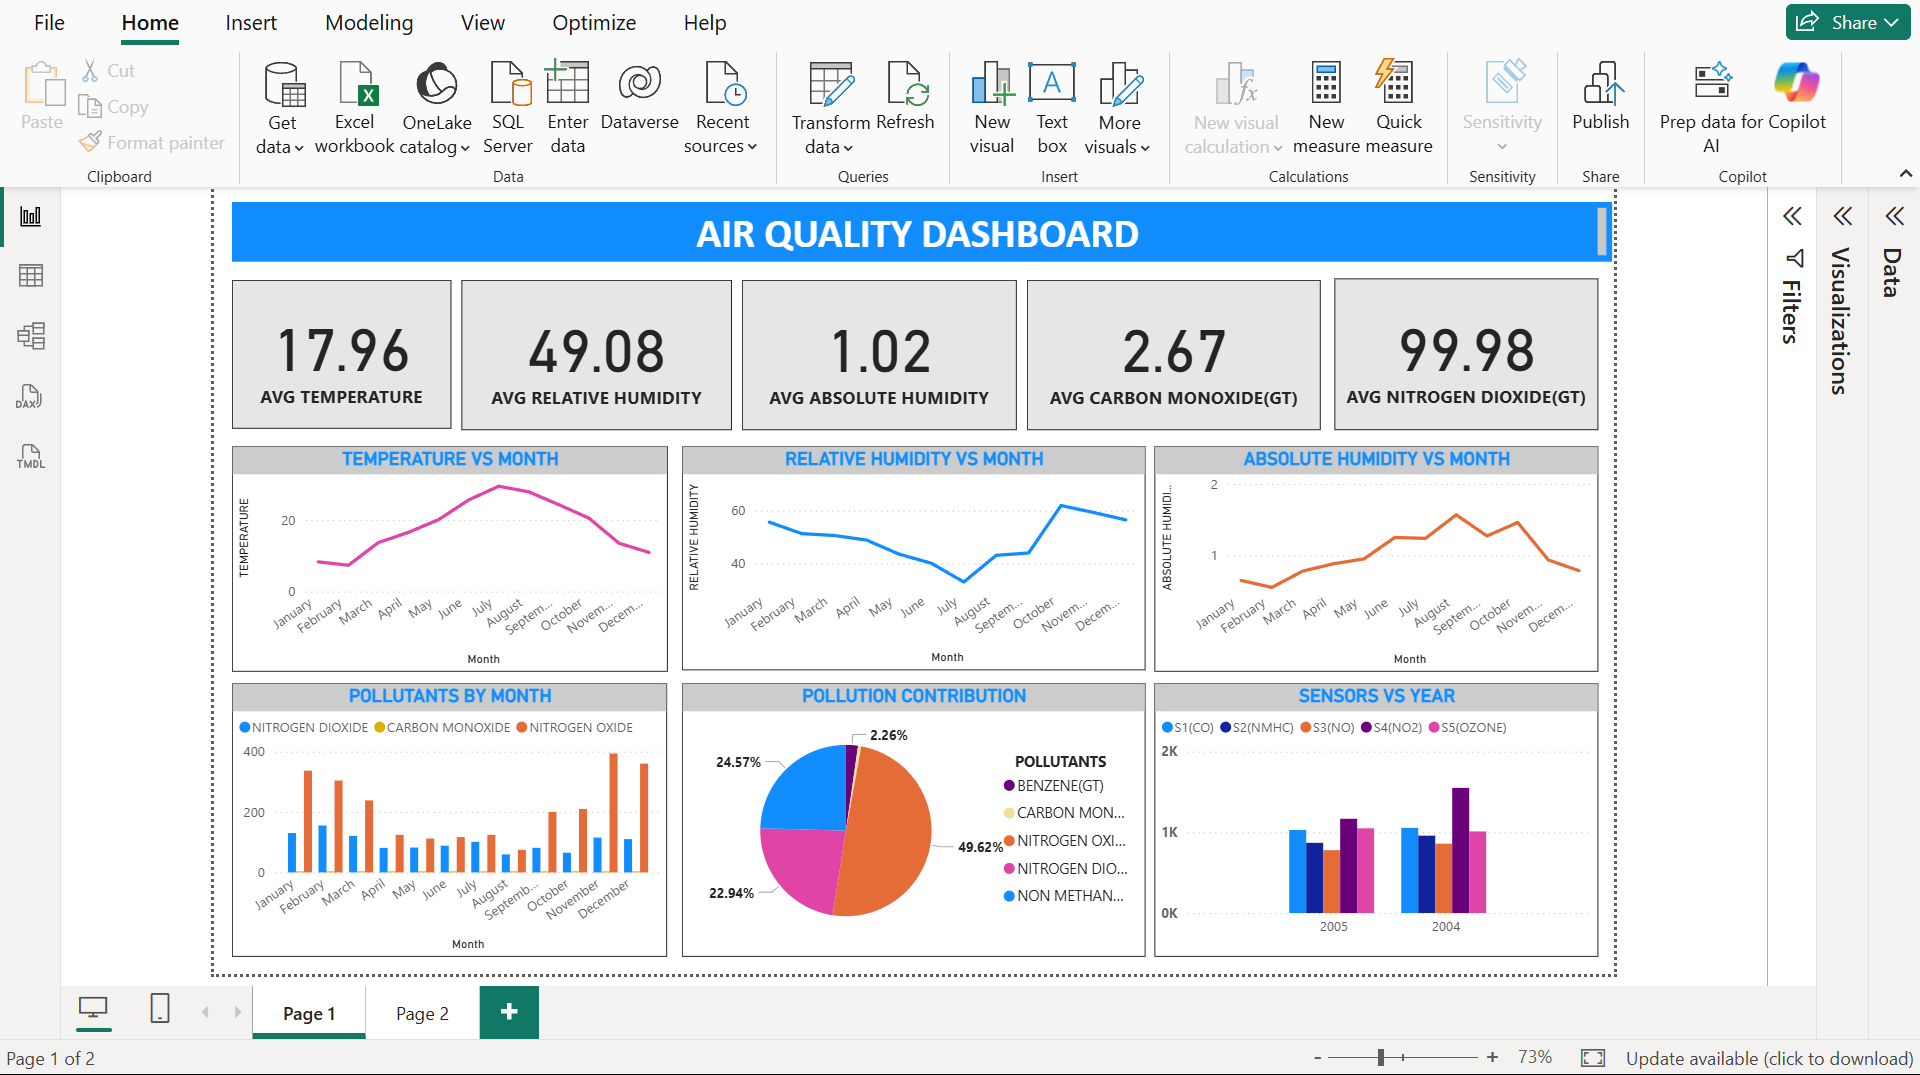

The dashboard page shown, as its layout file describes it:
{"tool":"powerbi","page":{"name":"Page 1","canvas":[1280,720],"ordinal":0},"visuals":[{"type":"textbox","box":[16.9,13.2,1262.5,54.5],"z":0},{"type":"card","fields":{"Values":["Avg(AirQualityUCI.TEMPERATURE)"]},"box":[16.5,85.1,200.4,135.9],"z":1000},{"type":"card","fields":{"Values":["Avg(AirQualityUCI.RELATIVE HUMIDITY)"]},"box":[226.4,85.1,247,137.2],"z":2000},{"type":"card","fields":{"Values":["Avg(AirQualityUCI.CARBON MONOXIDE(GT))"]},"box":[743.8,85.1,269,137.2],"z":3000},{"type":"card","fields":{"Values":["Avg(AirQualityUCI.NITROGEN DIOXIDE(GT))"]},"box":[1025.7,84.3,241.4,138.6],"z":4000},{"type":"card","fields":{"Values":["Avg(AirQualityUCI.ABSOLUTE HUMIDITY)"]},"box":[483.1,85.1,251.1,137.2],"z":5000},{"type":"lineChart","title":"TEMPERATURE VS MONTH","fields":{"Category":["AirQualityUCI.DATE AND TIME.Variation.Date Hierarchy.Year","AirQualityUCI.DATE AND TIME.Variation.Date Hierarchy.Quarter","AirQualityUCI.DATE AND TIME.Variation.Date Hierarchy.Month","AirQualityUCI.DATE AND TIME.Variation.Date Hierarchy.Day"],"Y":["Avg(AirQualityUCI.TEMPERATURE)"]},"box":[17.1,237.1,398.6,205.7],"z":6000},{"type":"lineChart","title":"RELATIVE HUMIDITY VS MONTH","fields":{"Category":["AirQualityUCI.DATE AND TIME.Variation.Date Hierarchy.Year","AirQualityUCI.DATE AND TIME.Variation.Date Hierarchy.Quarter","AirQualityUCI.DATE AND TIME.Variation.Date Hierarchy.Month","AirQualityUCI.DATE AND TIME.Variation.Date Hierarchy.Day"],"Y":["Avg(AirQualityUCI.RELATIVE HUMIDITY)"]},"box":[428.5,237.7,424,204.4],"z":7000},{"type":"lineChart","title":"ABSOLUTE HUMIDITY VS MONTH","fields":{"Category":["AirQualityUCI.DATE AND TIME.Variation.Date Hierarchy.Year","AirQualityUCI.DATE AND TIME.Variation.Date Hierarchy.Quarter","AirQualityUCI.DATE AND TIME.Variation.Date Hierarchy.Month","AirQualityUCI.DATE AND TIME.Variation.Date Hierarchy.Day"],"Y":["Avg(AirQualityUCI.ABSOLUTE HUMIDITY)"]},"box":[860,237.1,405.7,205.7],"z":8000},{"type":"clusteredColumnChart","title":"POLLUTANTS BY MONTH","fields":{"Category":["AirQualityUCI.DATE AND TIME.Variation.Date Hierarchy.Year","AirQualityUCI.DATE AND TIME.Variation.Date Hierarchy.Quarter","AirQualityUCI.DATE AND TIME.Variation.Date Hierarchy.Month","AirQualityUCI.DATE AND TIME.Variation.Date Hierarchy.Day"],"Y":["Avg(AirQualityUCI.NITROGEN DIOXIDE(GT))","Avg(AirQualityUCI.CARBON MONOXIDE(GT))","Avg(AirQualityUCI.NITROGEN OXIDE(GT))"]},"box":[16.7,454.3,398.2,249.8],"z":9000},{"type":"pieChart","title":"POLLUTION CONTRIBUTION","fields":{"Y":["Avg(AirQualityUCI.BENZENE(GT))","Avg(AirQualityUCI.CARBON MONOXIDE(GT))","Avg(AirQualityUCI.NITROGEN OXIDE(GT))","Avg(AirQualityUCI.NITROGEN DIOXIDE(GT))","Avg(AirQualityUCI.NON METHANE HYDROCARBONS(GT))"]},"box":[428.5,454.3,424,249.8],"z":10000},{"type":"clusteredColumnChart","title":"SENSORS VS YEAR","fields":{"Category":["AirQualityUCI.DATE AND TIME.Variation.Date Hierarchy.Year","AirQualityUCI.DATE AND TIME.Variation.Date Hierarchy.Quarter","AirQualityUCI.DATE AND TIME.Variation.Date Hierarchy.Month","AirQualityUCI.DATE AND TIME.Variation.Date Hierarchy.Day"],"Y":["Avg(AirQualityUCI.PT08.S1(CARBON MONOXIDE))","Avg(AirQualityUCI.PT08.S2(NON METHANE HYDROCARBONS))","Avg(AirQualityUCI.PT08.S3(NITROGEN OXIDE))","Avg(AirQualityUCI.PT08.S4(NITROGEN DIOXIDE))","Avg(AirQualityUCI.PT08.S5(OZONE))"]},"box":[860,454,406,250],"z":11000}]}

Visuals, with their boxes on the page's 1280x720 design canvas (x1, y1, x2, y2). These are canvas units, not pixel positions in the 1920x1075 screenshot, which may show the page scaled, cropped or inside an application window:
textbox: bbox=(17, 13, 1279, 68)
card - Avg(AirQualityUCI.TEMPERATURE): bbox=(16, 85, 217, 221)
card - Avg(AirQualityUCI.RELATIVE HUMIDITY): bbox=(226, 85, 473, 222)
card - Avg(AirQualityUCI.CARBON MONOXIDE(GT)): bbox=(744, 85, 1013, 222)
card - Avg(AirQualityUCI.NITROGEN DIOXIDE(GT)): bbox=(1026, 84, 1267, 223)
card - Avg(AirQualityUCI.ABSOLUTE HUMIDITY): bbox=(483, 85, 734, 222)
"TEMPERATURE VS MONTH" lineChart: bbox=(17, 237, 416, 443)
"RELATIVE HUMIDITY VS MONTH" lineChart: bbox=(428, 238, 852, 442)
"ABSOLUTE HUMIDITY VS MONTH" lineChart: bbox=(860, 237, 1266, 443)
"POLLUTANTS BY MONTH" clusteredColumnChart: bbox=(17, 454, 415, 704)
"POLLUTION CONTRIBUTION" pieChart: bbox=(428, 454, 852, 704)
"SENSORS VS YEAR" clusteredColumnChart: bbox=(860, 454, 1266, 704)
